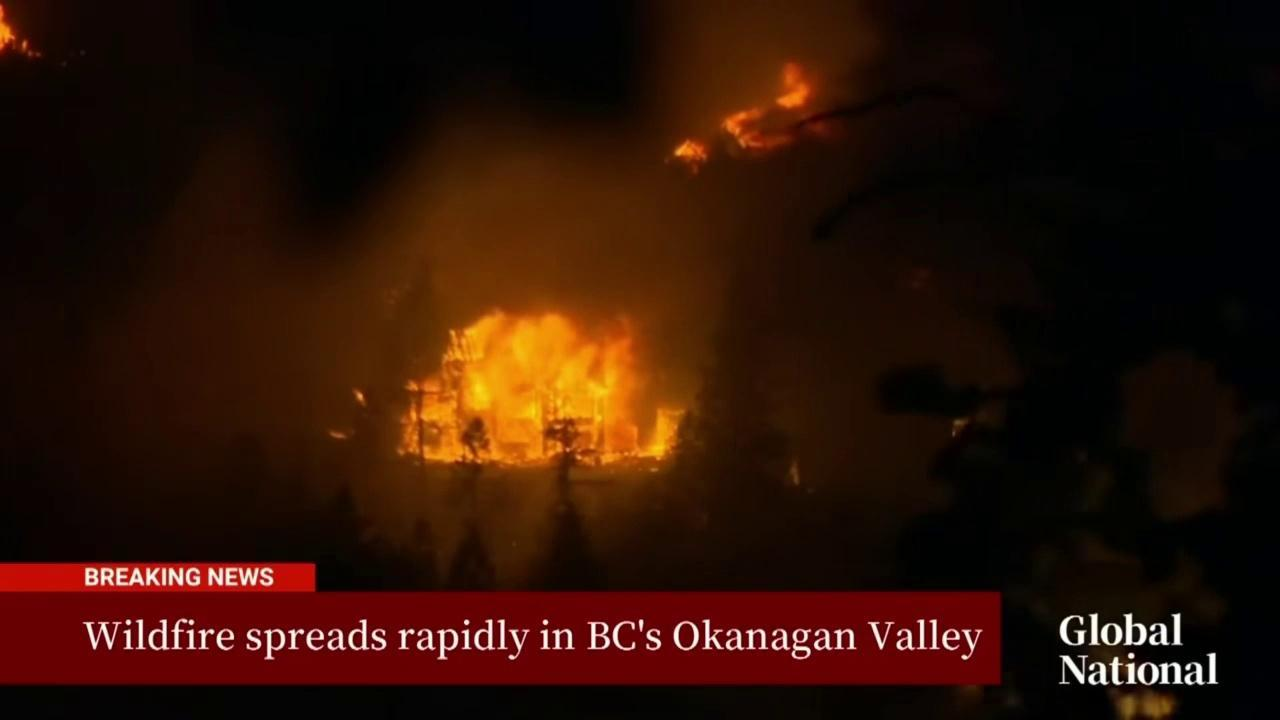fire: (385, 297, 696, 482), (722, 57, 823, 155), (0, 0, 49, 65), (666, 135, 709, 173), (324, 428, 350, 442), (350, 388, 369, 407)
smoke: (158, 0, 1033, 585)
